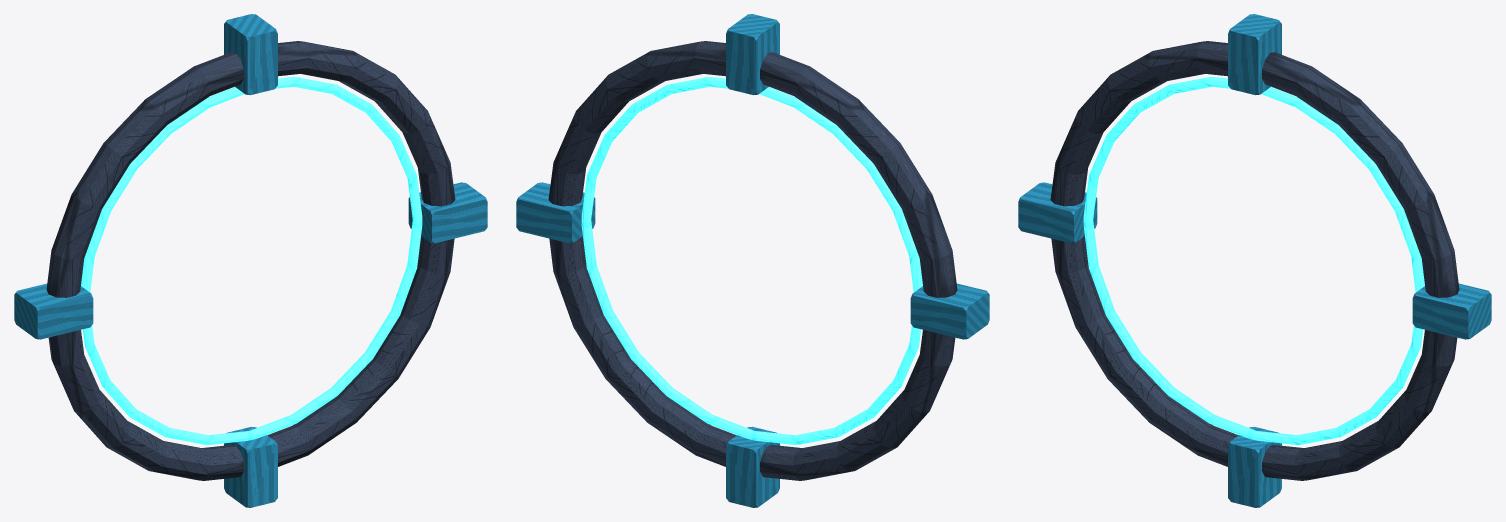
File: env_space_buoy.glb
The picture shows the model from 3 angles, left to right: view 1: azimuth 30°, elevation 25°; view 2: azimuth 150°, elevation 25°; view 3: azimuth 330°, elevation 25°; orthographic projection.
Visible parts, largest first — view 1: env_space_buoy; view 2: env_space_buoy; view 3: env_space_buoy.
Boxes of the visible parts, x1=… form: env_space_buoy: x1=14, y1=14, x2=487, y2=507; env_space_buoy: x1=516, y1=14, x2=989, y2=507; env_space_buoy: x1=1018, y1=14, x2=1491, y2=507.
Size of the model in its own units: 17.8 by 17.8 by 1.6.
1 material, 1 textured.
